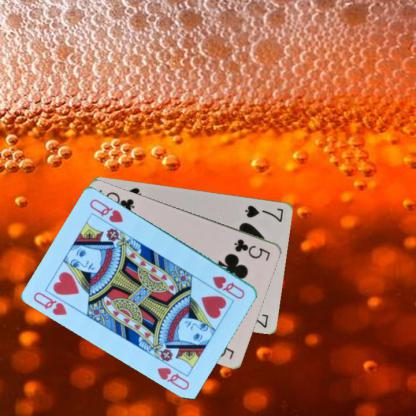5c: (232, 236, 272, 262)
7s: (242, 202, 285, 223)
Qh: (31, 289, 69, 317), (210, 273, 246, 300)
